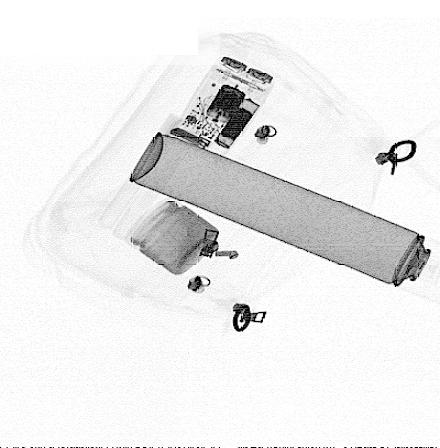Sprayer: (128, 131, 439, 304)
